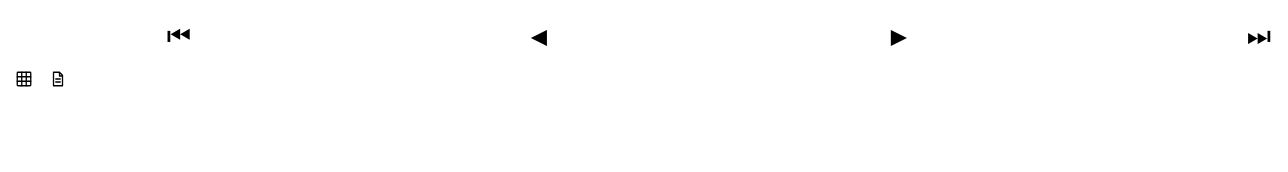
Test case: NavRow exports › reports clipboard rejection without claiming success
Click the button named "Copy PGN" at {"x": 58, "y": 79}, box [45,66,71,92]
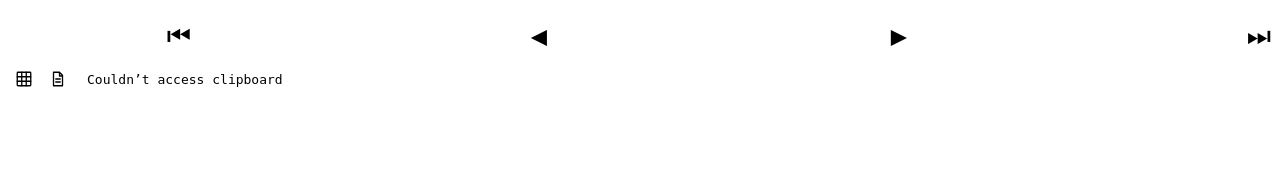
Now the message reads "Couldn’t access clipboard", box [87,72,283,86]
